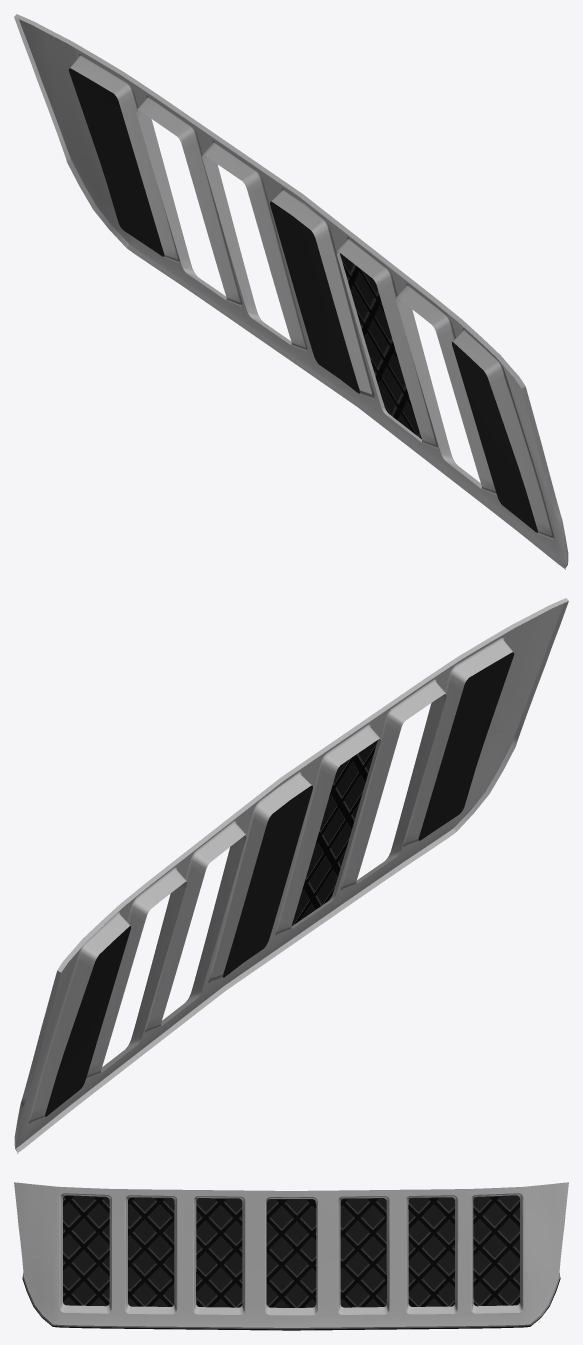
The picture shows the model from 3 angles, top to bottom: view 1: azimuth 30°, elevation 25°; view 2: azimuth 150°, elevation 25°; view 3: azimuth 270°, elevation 25°; orthographic projection. The views are drawn at different scales.
Parts seen in each view (by area): view 1: J733_041B_C_J733_041B_C_3_DaS, J733_041B_C_1_D_J733_041B_C, J733_041B_C_J733_041B_C_2_D; view 2: J733_041B_C_J733_041B_C_3_DaS, J733_041B_C_1_D_J733_041B_C, J733_041B_C_J733_041B_C_2_D; view 3: J733_041B_C_J733_041B_C_3_DaS, J733_041B_C_J733_041B_C_2_D, J733_041B_C_J733_041B_C_4_D, J733_041B_C_1_D_J733_041B_C.
Part boxes in pixels (box(x1,y1,x2,y2)): J733_041B_C_J733_041B_C_3_DaS: box(14, 14, 568, 568); J733_041B_C_1_D_J733_041B_C: box(68, 68, 537, 532); J733_041B_C_J733_041B_C_2_D: box(340, 253, 421, 439); J733_041B_C_J733_041B_C_3_DaS: box(14, 598, 568, 1152); J733_041B_C_1_D_J733_041B_C: box(45, 652, 514, 1116); J733_041B_C_J733_041B_C_2_D: box(291, 740, 377, 926); J733_041B_C_J733_041B_C_3_DaS: box(14, 1182, 568, 1329); J733_041B_C_J733_041B_C_2_D: box(63, 1196, 519, 1307); J733_041B_C_J733_041B_C_4_D: box(22, 1278, 560, 1330); J733_041B_C_1_D_J733_041B_C: box(63, 1195, 519, 1272).
Bounding box in the file's own units: 12.67 × 30.18 × 122.
